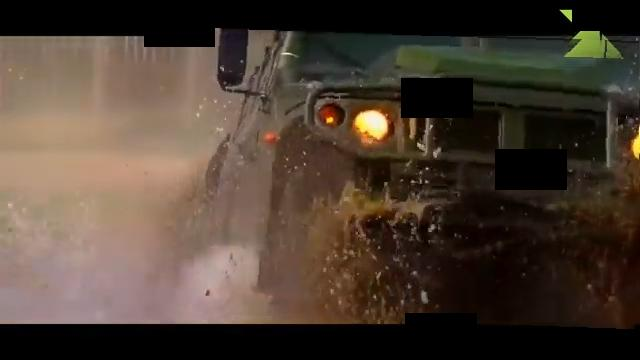MIL_HMMWV: (194, 30, 640, 326)
